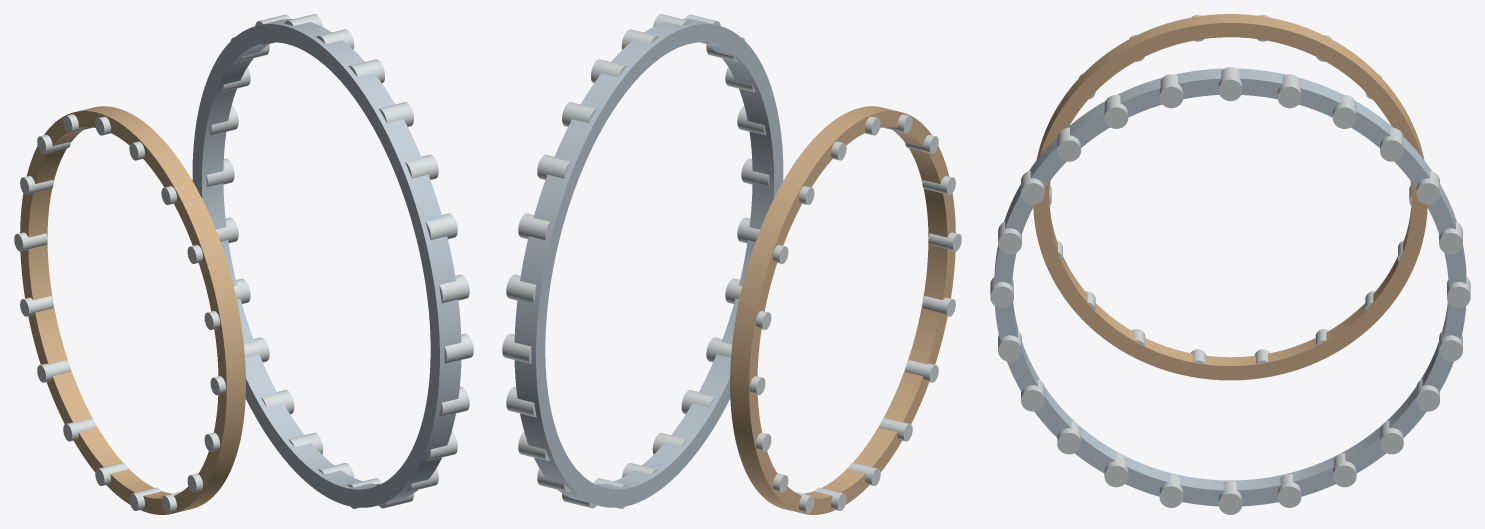
The model's file is fan-retention-hardware.glb.
3 renders of one model, left to right at view 1: azimuth 30°, elevation 25°; view 2: azimuth 150°, elevation 25°; view 3: azimuth 270°, elevation 25°, orthographic. The views are drawn at different scales.
Visible parts, largest first — view 1: fan-retention-hardware - blade, fan-retention-hardware - bronze, fan-retention-hardware - fastener; view 2: fan-retention-hardware - blade, fan-retention-hardware - bronze, fan-retention-hardware - fastener; view 3: fan-retention-hardware - bronze, fan-retention-hardware - blade, fan-retention-hardware - fastener.
Boxes of the visible parts, x1,y1,x2,y2 form: fan-retention-hardware - blade: (192,19,461,507); fan-retention-hardware - bronze: (20,106,245,514); fan-retention-hardware - fastener: (14,14,473,513); fan-retention-hardware - blade: (514,18,783,507); fan-retention-hardware - bronze: (730,106,955,514); fan-retention-hardware - fastener: (502,14,961,513); fan-retention-hardware - bronze: (1033,14,1427,380); fan-retention-hardware - blade: (994,68,1466,506); fan-retention-hardware - fastener: (990,14,1470,514).
Bounding box in the file's own units: 0.386 × 0.728 × 0.728.
